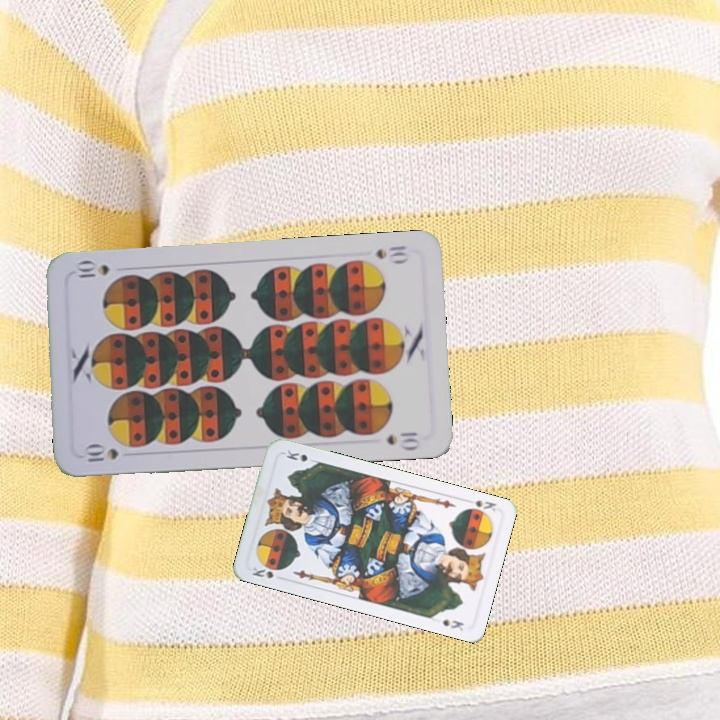S10: (371, 241, 411, 266), (81, 442, 121, 464)
SK: (461, 495, 499, 514), (247, 562, 276, 581)
